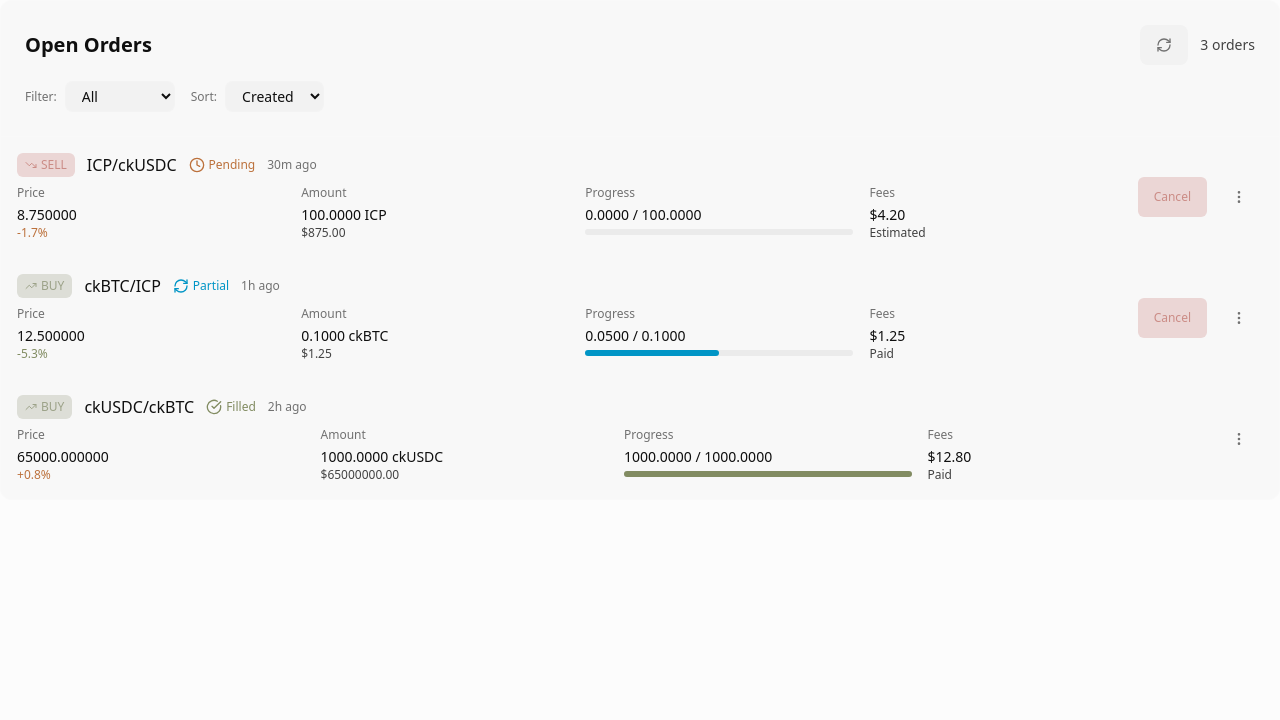
Test: OpenOrdersList Component › Order Cancellation with Wallet Signature › should show success toast after successful cancellation
# Cancel order
Click the button "Cancel" in the row of "4.20": (1172, 197) [1138, 177, 1207, 217]
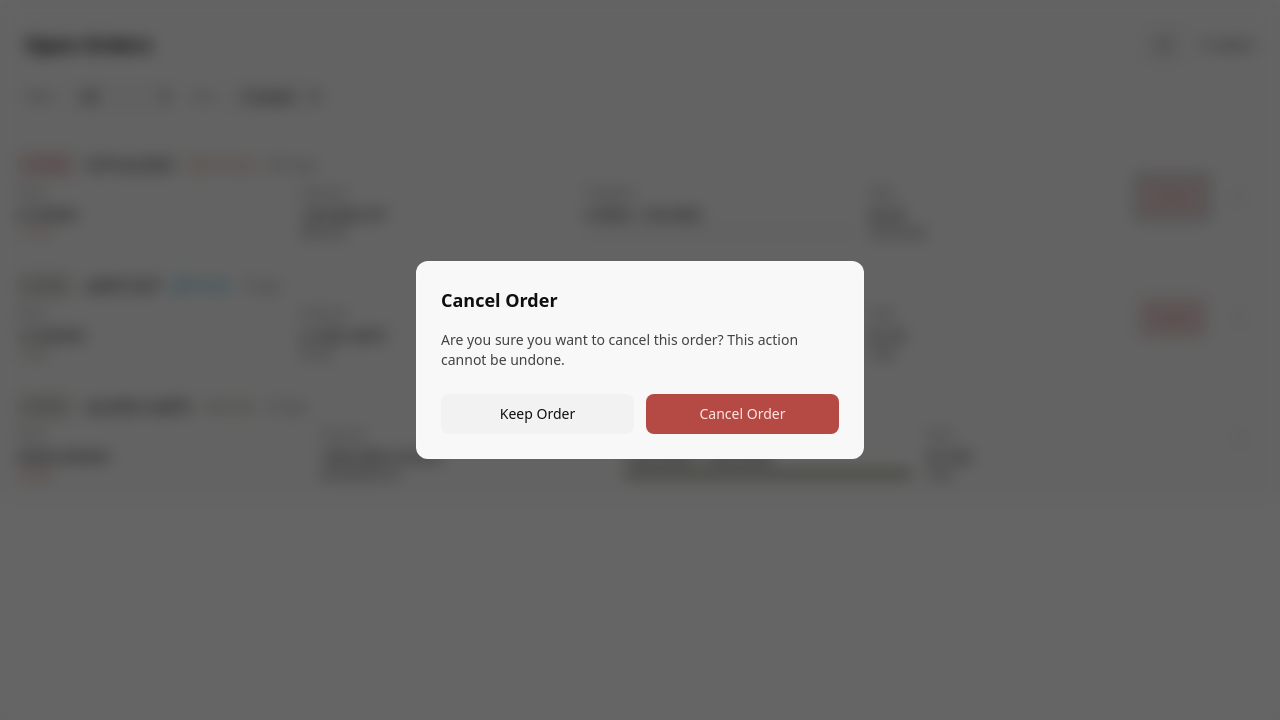
Click the button "Cancel Order": (742, 414) [646, 394, 839, 434]
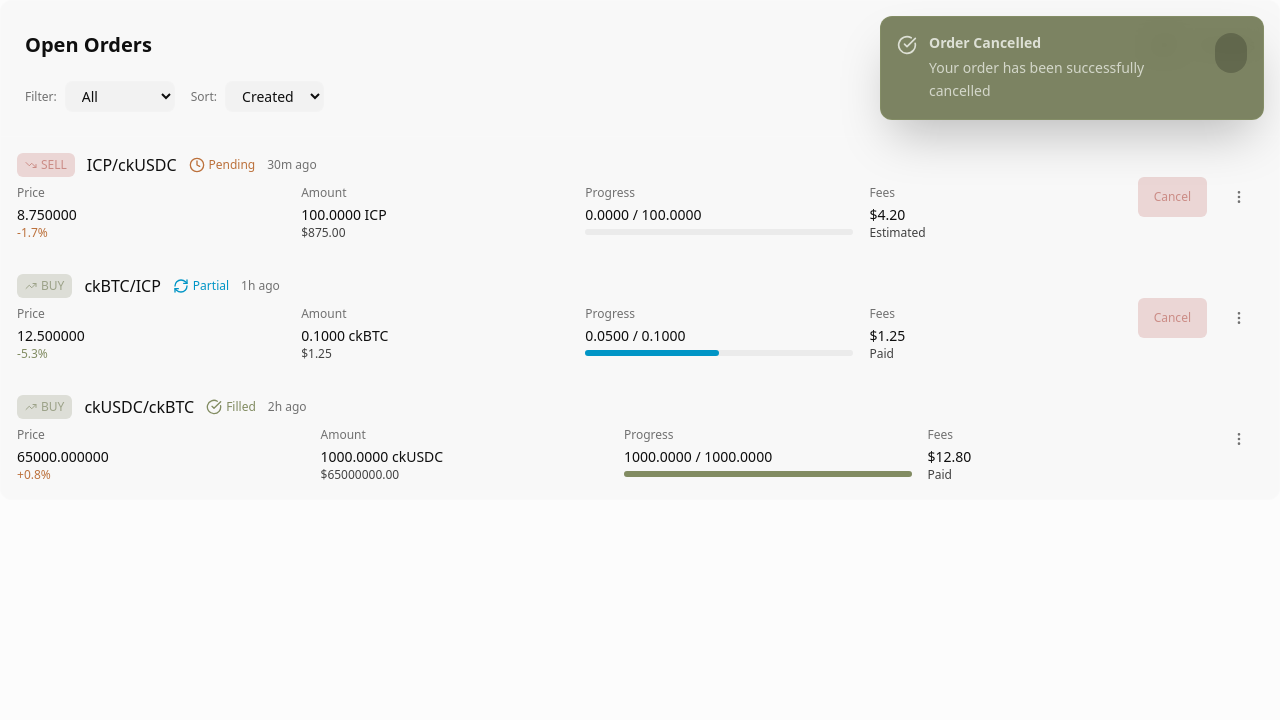
Check: the text "Order Cancelled" is shown, box [929, 33, 1041, 52]
Check: the text "Your order has been successfully cancelled" is shown, box [929, 58, 1144, 100]
